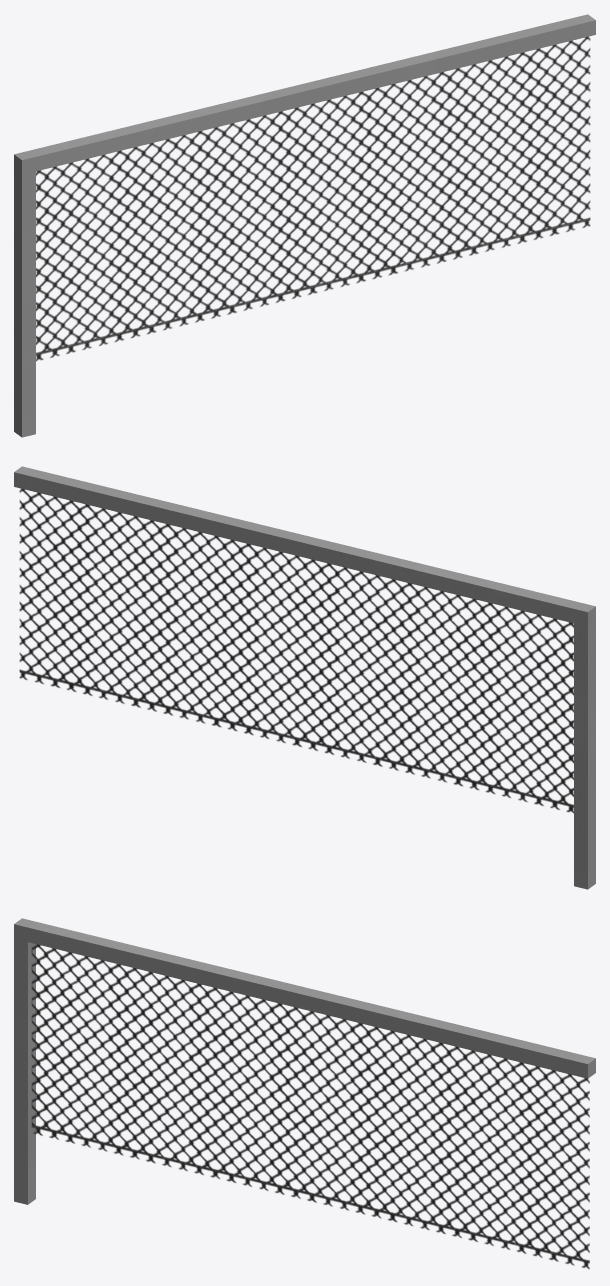
File: fence-chainlink-1rail-1s-cbj_LOD00.gltf
3 renders of one model, top to bottom at view 1: azimuth 30°, elevation 25°; view 2: azimuth 150°, elevation 25°; view 3: azimuth 330°, elevation 25°, orthographic.
Visible parts, largest first — view 1: post; view 2: post; view 3: post.
Boxes of the visible parts, x1=… form: post: x1=14, y1=14, x2=595, y2=437; post: x1=14, y1=466, x2=595, y2=889; post: x1=14, y1=918, x2=595, y2=1269.
Bounding box in the file's own units: 2.88 × 1.33 × 0.07.
